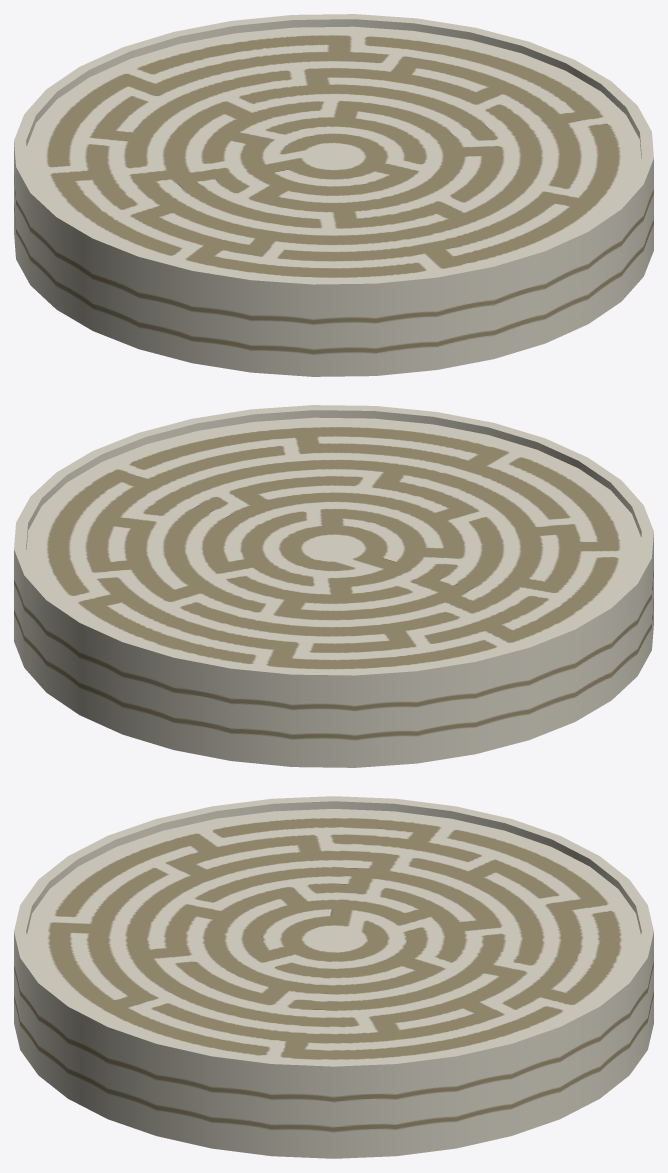
Rendered from mdlRockPlatform.fbx.
3 views of the same model, one above another, from view 1: azimuth 30°, elevation 25°; view 2: azimuth 150°, elevation 25°; view 3: azimuth 270°, elevation 25° (orthographic).
Parts seen in each view (by area): view 1: mdlRockPlatform; view 2: mdlRockPlatform; view 3: mdlRockPlatform.
Part boxes in pixels (x1=…): mdlRockPlatform: x1=14, y1=14, x2=653, y2=376; mdlRockPlatform: x1=14, y1=405, x2=653, y2=767; mdlRockPlatform: x1=14, y1=796, x2=653, y2=1158.
Bounding box in the file's own units: 12.58 × 3.91 × 12.58.
